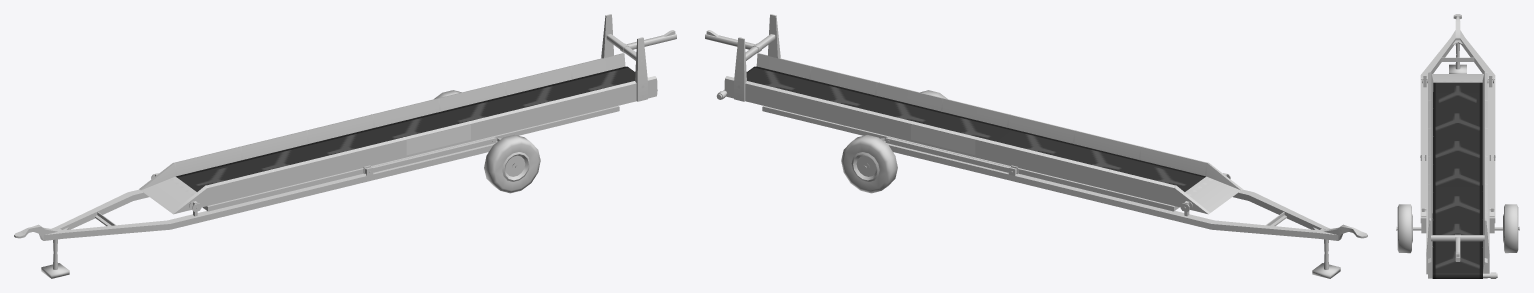
File: TFP_Conveyor_Belt_01B.fbx
The picture shows the model from 3 angles, left to right: view 1: azimuth 30°, elevation 25°; view 2: azimuth 150°, elevation 25°; view 3: azimuth 270°, elevation 25°; orthographic projection. The views are drawn at different scales.
Visible parts, largest first — view 1: TFP_Conveyor_Belt_01B_Body_LOD0, TFP_Conveyor_Belt_01B_Support_LOD0, TFP_Conveyor_Belt_01B_Wheel.L_LOD0, TFP_Conveyor_Belt_01B_Logos_LOD0, TFP_Conveyor_Belt_01B_System_LOD0, TFP_Conveyor_Belt_01B_Standing_Leg_LOD0; view 2: TFP_Conveyor_Belt_01B_Body_LOD0, TFP_Conveyor_Belt_01B_Support_LOD0, TFP_Conveyor_Belt_01B_Wheel.R_LOD0, TFP_Conveyor_Belt_01B_Logos_LOD0, TFP_Conveyor_Belt_01B_System_LOD0, TFP_Conveyor_Belt_01B_Standing_Leg_LOD0; view 3: TFP_Conveyor_Belt_01B_Body_LOD0, TFP_Conveyor_Belt_01B_Support_LOD0, TFP_Conveyor_Belt_01B_Wheel.R_LOD0, TFP_Conveyor_Belt_01B_Wheel.L_LOD0, TFP_Conveyor_Belt_01B_System_LOD0, TFP_Conveyor_Belt_01B_Standing_Leg_LOD0.
Part boxes in pixels (bbox=[...]): TFP_Conveyor_Belt_01B_Body_LOD0: bbox=[139, 14, 676, 214]; TFP_Conveyor_Belt_01B_Support_LOD0: bbox=[14, 138, 501, 240]; TFP_Conveyor_Belt_01B_Wheel.L_LOD0: bbox=[484, 134, 540, 193]; TFP_Conveyor_Belt_01B_Logos_LOD0: bbox=[406, 124, 470, 155]; TFP_Conveyor_Belt_01B_System_LOD0: bbox=[365, 137, 496, 173]; TFP_Conveyor_Belt_01B_Standing_Leg_LOD0: bbox=[41, 239, 69, 278]; TFP_Conveyor_Belt_01B_Body_LOD0: bbox=[705, 14, 1242, 214]; TFP_Conveyor_Belt_01B_Support_LOD0: bbox=[880, 138, 1367, 240]; TFP_Conveyor_Belt_01B_Wheel.R_LOD0: bbox=[841, 135, 897, 193]; TFP_Conveyor_Belt_01B_Logos_LOD0: bbox=[911, 124, 975, 155]; TFP_Conveyor_Belt_01B_System_LOD0: bbox=[885, 137, 1016, 173]; TFP_Conveyor_Belt_01B_Standing_Leg_LOD0: bbox=[1312, 239, 1340, 278]; TFP_Conveyor_Belt_01B_Body_LOD0: bbox=[1426, 72, 1497, 278]; TFP_Conveyor_Belt_01B_Support_LOD0: bbox=[1413, 14, 1502, 233]; TFP_Conveyor_Belt_01B_Wheel.R_LOD0: bbox=[1503, 204, 1519, 253]; TFP_Conveyor_Belt_01B_Wheel.L_LOD0: bbox=[1396, 204, 1412, 253]; TFP_Conveyor_Belt_01B_System_LOD0: bbox=[1421, 153, 1494, 211]; TFP_Conveyor_Belt_01B_Standing_Leg_LOD0: bbox=[1449, 43, 1466, 73].
Size of what is drawn, in the model's own units: 15.01 by 2.33 by 2.8.
